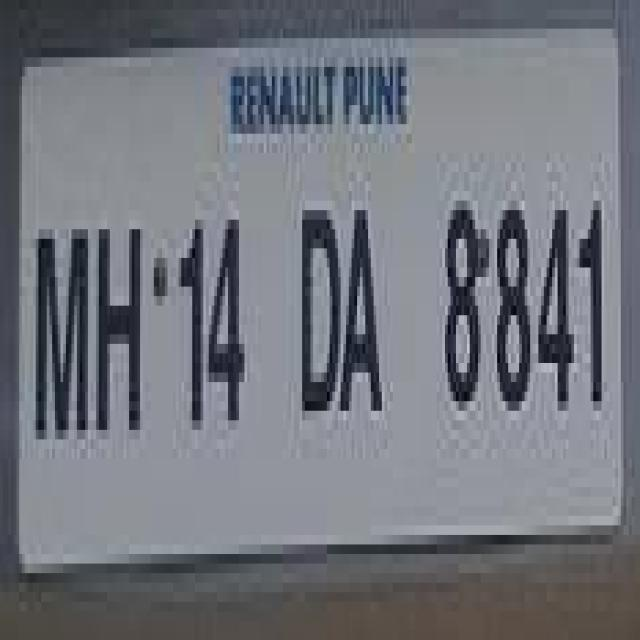license_plate: (22, 10, 640, 582)
